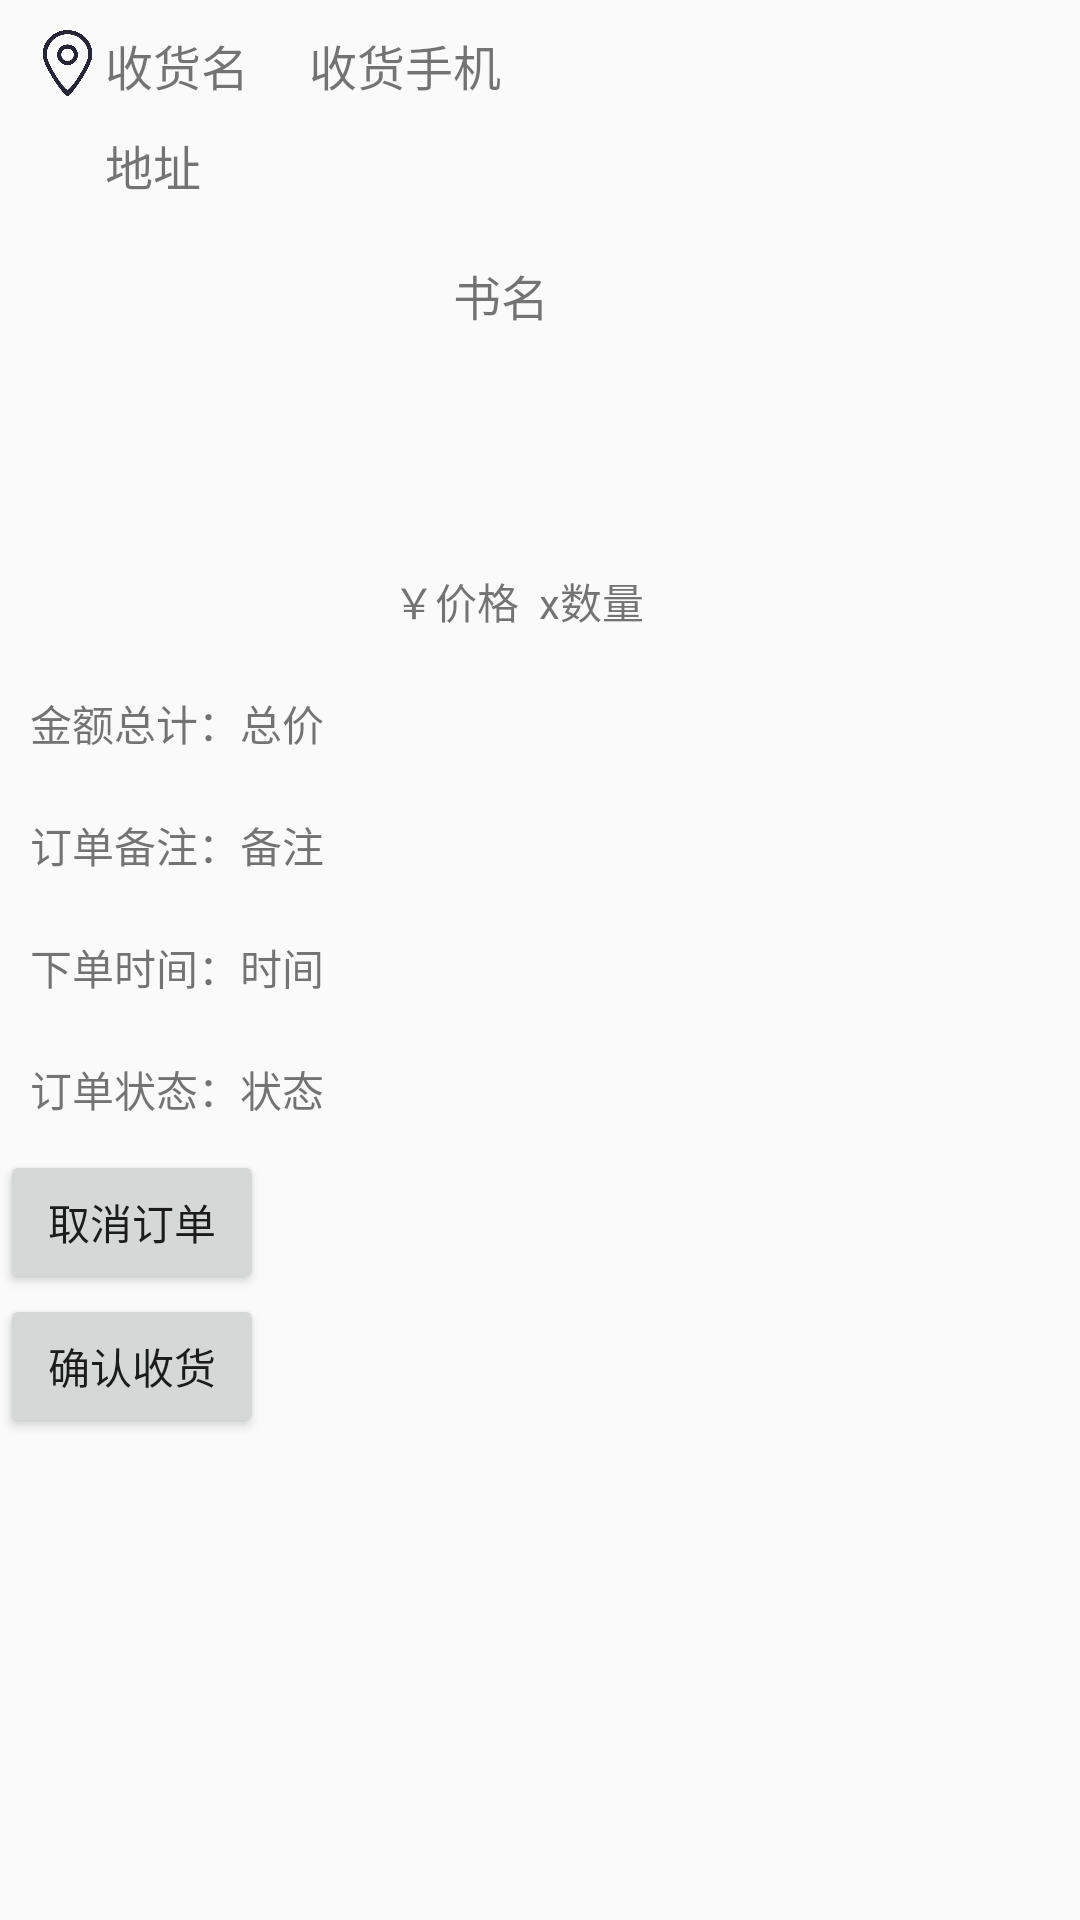

Locate icon controls on the screen. Image size 1080px×1920px, boxes as (x1, y1, x2, y2).
address: (43, 30, 92, 96)
